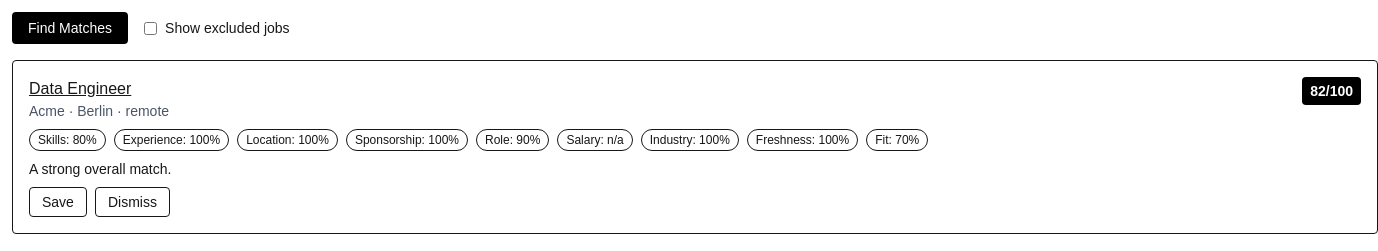
MatchesClient › dismisses a match: it stays in the eligible list (no recompute has run yet) but the row shows dismissed feedback
Click the button "Dismiss" at x=132, y=202, box [95,187,170,217]
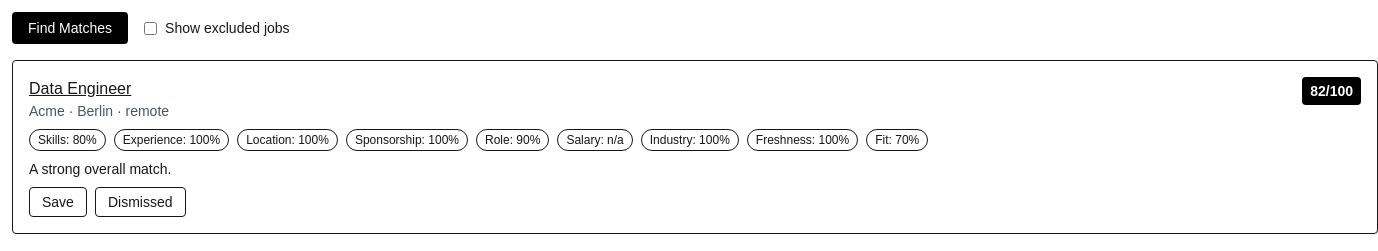
Check: the link "Data Engineer" is shown, box [29,80,131,97]
Check: the button "Dismissed" is shown, box [95,187,186,217]
